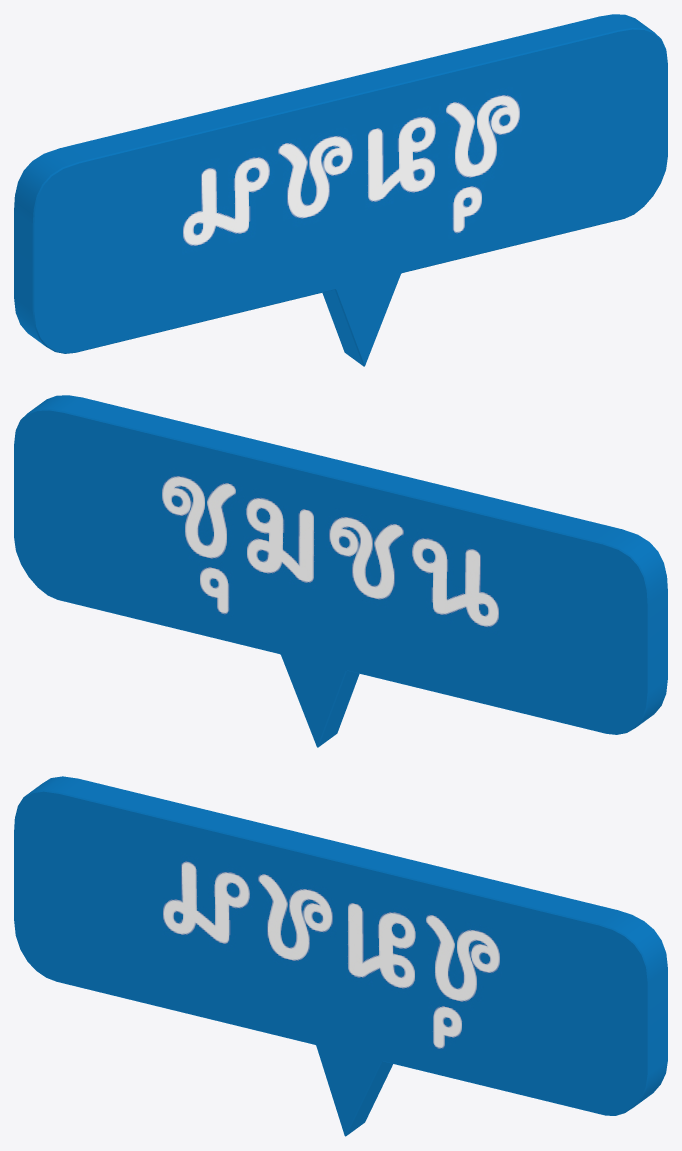
The model's file is button_town.glb.
The picture shows the model from 3 angles, top to bottom: view 1: azimuth 30°, elevation 25°; view 2: azimuth 150°, elevation 25°; view 3: azimuth 330°, elevation 25°; orthographic projection.
Visible parts, largest first — view 1: button:PIV; view 2: button:PIV; view 3: button:PIV.
Boxes of the visible parts, x1,y1,x2,y2 form: button:PIV: (14, 14, 667, 366); button:PIV: (14, 395, 667, 747); button:PIV: (14, 776, 667, 1136).
Size of the model in its own units: 1.97 by 0.8125 by 0.107.
1 material, 1 textured.
